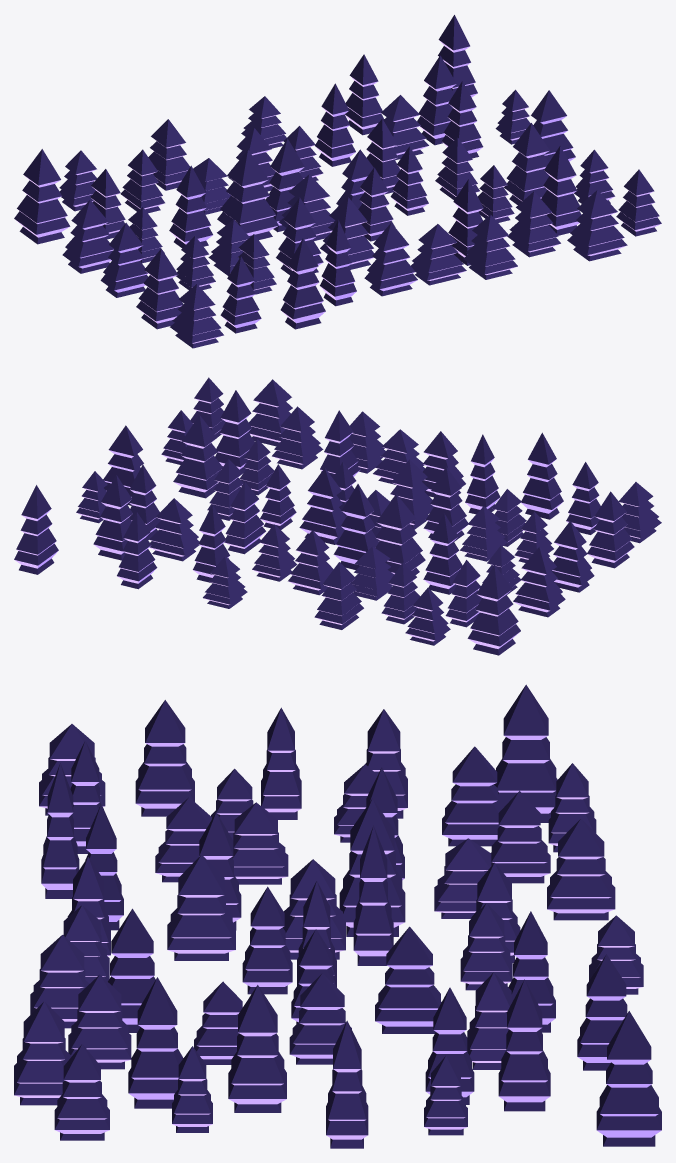
File: tree-cluster.fbx
3 views of the same model, one above another, from view 1: azimuth 30°, elevation 25°; view 2: azimuth 150°, elevation 25°; view 3: azimuth 270°, elevation 25° (orthographic). The views are drawn at different scales.
Parts seen in each view (by area): view 1: Pyramid_30_4, Pyramid_30_17, Pyramid_30_40, Pyramid_30_10, Pyramid_30_3, Pyramid_30_20, Pyramid_30_1, Pyramid_30_42, Pyramid_30_2, Pyramid_30_41, Pyramid_30_30, Pyramid_30_35 (+38 smaller); view 2: Pyramid_30_4, Pyramid_30_42, Pyramid_30_49, Pyramid_30_17, Pyramid_30_10, Pyramid_30_3, Pyramid_30_1, Pyramid_30_23, Pyramid_30_27, Pyramid_30_44, Pyramid_30_38, Pyramid_30_19 (+38 smaller); view 3: Pyramid_30_49, Pyramid_30_42, Pyramid_30_4, Pyramid_30_21, Pyramid_30_19, Pyramid_30_41, Pyramid_30_33, Pyramid_30_44, Pyramid_30_1, Pyramid_30_40, Pyramid_30_8, Pyramid_30_35 (+38 smaller).
Boxes of the visible parts, <box> form: Pyramid_30_4: <box>14,149,70,244</box>; Pyramid_30_17: <box>217,150,278,240</box>; Pyramid_30_40: <box>567,190,627,261</box>; Pyramid_30_10: <box>280,238,325,329</box>; Pyramid_30_3: <box>62,200,113,273</box>; Pyramid_30_20: <box>364,223,417,296</box>; Pyramid_30_1: <box>136,248,183,329</box>; Pyramid_30_42: <box>504,123,549,204</box>; Pyramid_30_2: <box>100,222,148,297</box>; Pyramid_30_41: <box>541,145,581,235</box>; Pyramid_30_30: <box>463,214,517,279</box>; Pyramid_30_35: <box>507,191,560,257</box>; Pyramid_30_4: <box>467,565,520,655</box>; Pyramid_30_42: <box>173,415,222,498</box>; Pyramid_30_49: <box>14,485,58,574</box>; Pyramid_30_17: <box>375,494,425,574</box>; Pyramid_30_10: <box>521,432,563,519</box>; Pyramid_30_3: <box>513,547,565,617</box>; Pyramid_30_1: <box>587,491,634,568</box>; Pyramid_30_23: <box>333,484,378,569</box>; Pyramid_30_27: <box>299,468,345,544</box>; Pyramid_30_44: <box>93,475,132,560</box>; Pyramid_30_38: <box>149,498,199,561</box>; Pyramid_30_19: <box>314,562,363,629</box>; Pyramid_30_49: <box>596,1011,661,1146</box>; Pyramid_30_42: <box>228,985,286,1112</box>; Pyramid_30_4: <box>494,684,557,822</box>; Pyramid_30_21: <box>167,854,235,960</box>; Pyramid_30_19: <box>547,818,615,920</box>; Pyramid_30_41: <box>128,977,183,1108</box>; Pyramid_30_33: <box>375,926,441,1033</box>; Pyramid_30_44: <box>498,979,550,1111</box>; Pyramid_30_1: <box>135,700,194,816</box>; Pyramid_30_40: <box>14,1001,71,1105</box>; Pyramid_30_8: <box>442,746,503,846</box>; Pyramid_30_35: <box>68,974,131,1069</box>.
Bounding box in the file's own units: 3879 × 659 × 2991.
